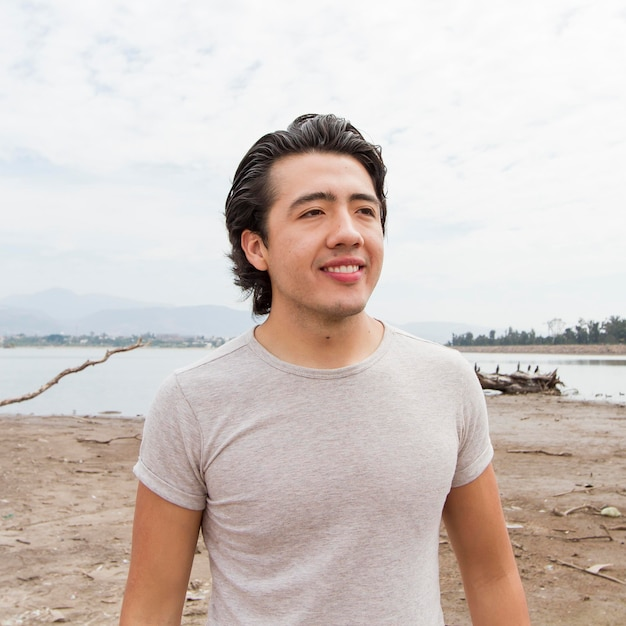teen: (239, 104, 404, 328)
